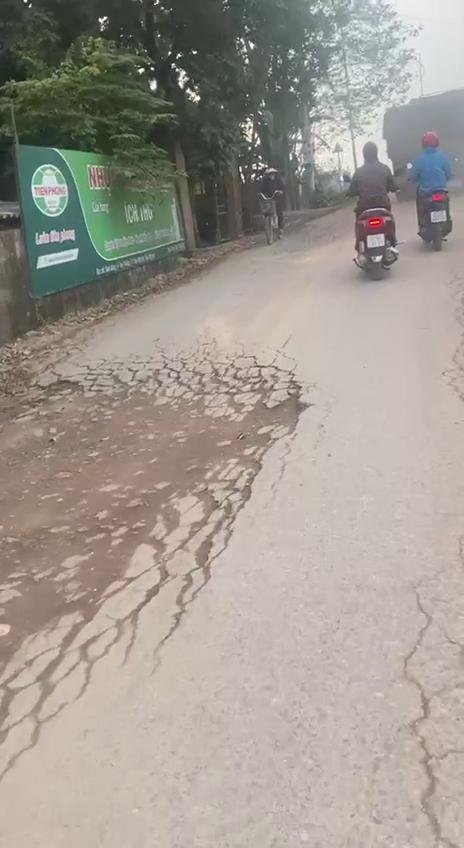pothole: (0, 356, 304, 716)
